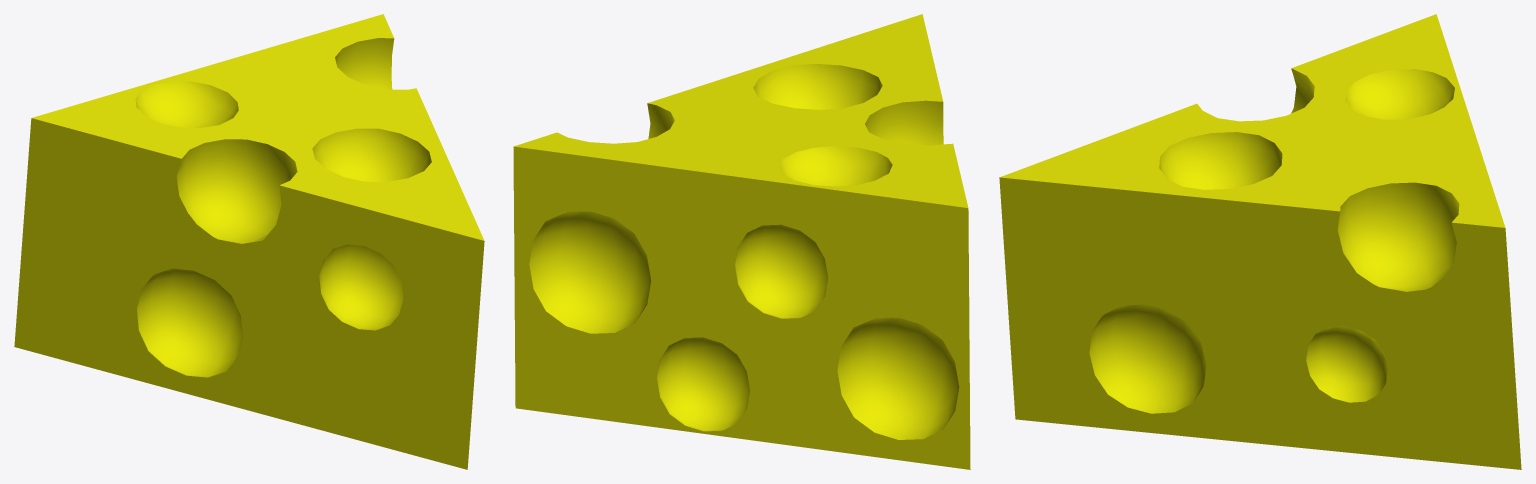
Rendered from Queso.fbx.
3 renders of one model, left to right at view 1: azimuth 30°, elevation 25°; view 2: azimuth 150°, elevation 25°; view 3: azimuth 270°, elevation 25°, orthographic. The views are drawn at different scales.
Visible parts, largest first — view 1: polySurface11; view 2: polySurface11; view 3: polySurface11.
Part boxes in pixels (x1,y1,x2,y2): polySurface11: [14, 14, 484, 469]; polySurface11: [513, 14, 970, 469]; polySurface11: [999, 14, 1521, 469].
Bounding box in the file's own units: 2.61 × 1.68 × 2.82.
